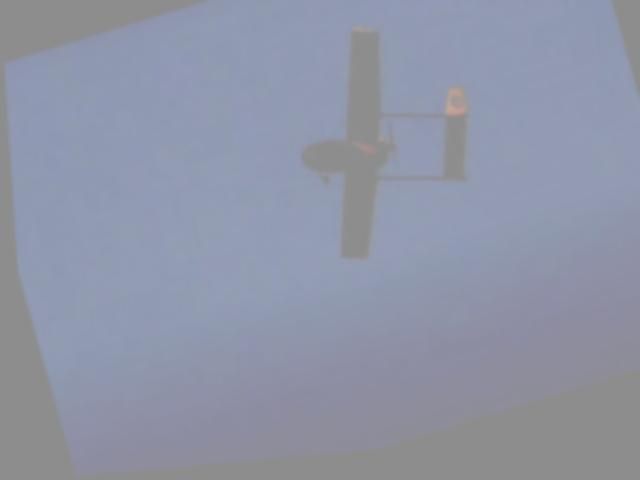iha: (264, 2, 505, 282)
